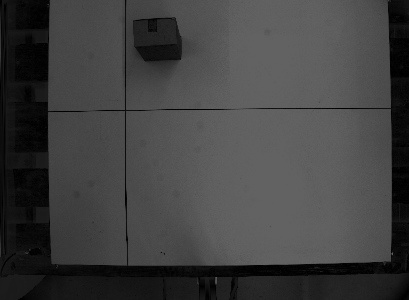b6: (130, 14, 184, 63)
